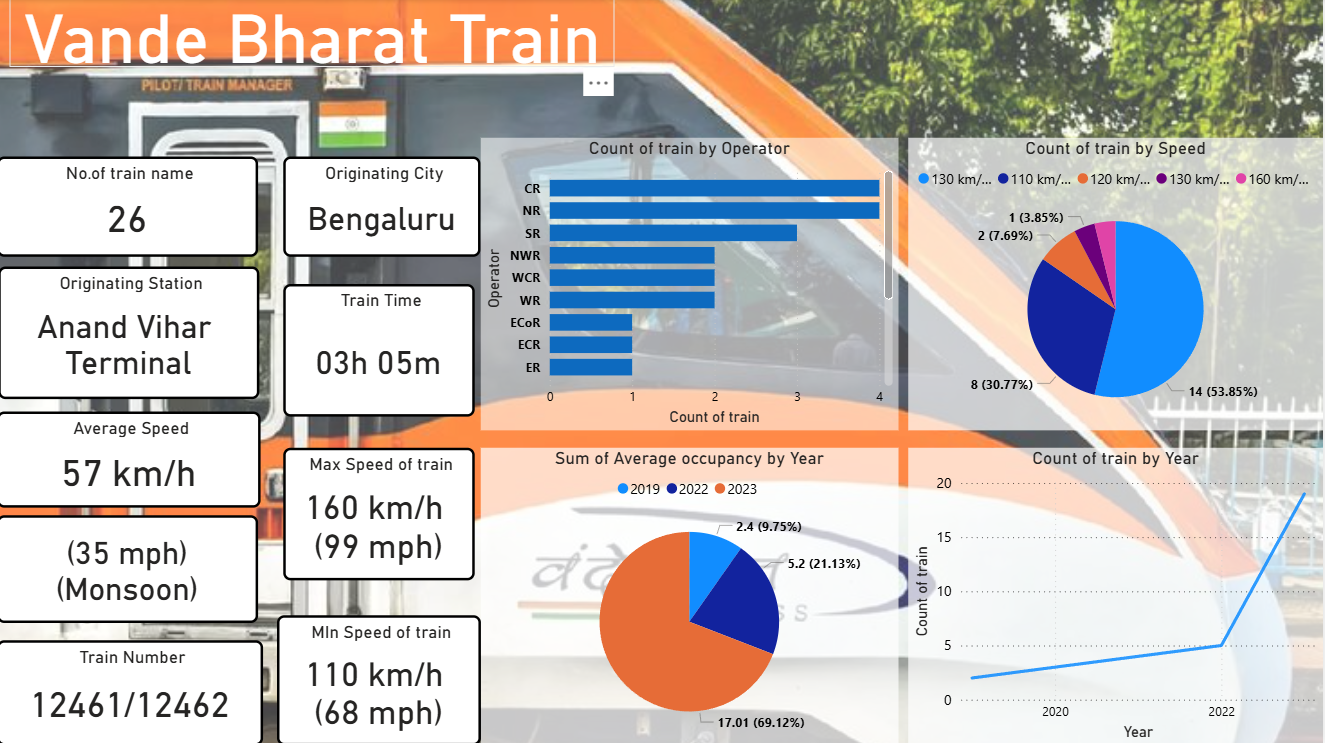

Layout of this report page (visuals, bound fields, positions):
{"tool":"powerbi","page":{"name":"Page 1","canvas":[1280,720],"ordinal":0},"visuals":[{"type":"card","title":"No.of train name","fields":{"Values":["Copy of Vande Bharat Jan- 2024 - Vande Bharat.Total no.of train name"]},"box":[0,151.6,251.9,96.6],"z":0},{"type":"card","title":"Originating City","fields":{"Values":["Min(Copy of Vande Bharat Jan- 2024 - Vande Bharat.Originating City)"]},"box":[276.4,151.6,190.8,96.6],"z":1000},{"type":"card","title":"Train Number","fields":{"Values":["Min(Copy of Vande Bharat Jan- 2024 - Vande Bharat.Train Number)"]},"box":[0,618.8,256.8,101.5],"z":2000},{"type":"clusteredBarChart","fields":{"Y":["Copy of Vande Bharat Jan- 2024 - Vande Bharat.Count of train"],"Category":["Copy of Vande Bharat Jan- 2024 - Vande Bharat.Operator"]},"box":[466.9,133.9,403,282.3],"z":3000},{"type":"pieChart","fields":{"Y":["Copy of Vande Bharat Jan- 2024 - Vande Bharat.Count of train"],"Category":["Copy of Vande Bharat Jan- 2024 - Vande Bharat.Speed"]},"box":[879.5,133.9,400.5,282.3],"z":4000},{"type":"pieChart","fields":{"Y":["Sum(Copy of Vande Bharat Jan- 2024 - Vande Bharat.Average occupancy)"],"Category":["Copy of Vande Bharat Jan- 2024 - Vande Bharat.Inauguration.Variation.Date Hierarchy.Year"]},"box":[466.9,433.1,403,287.1],"z":5000},{"type":"lineChart","fields":{"Y":["Copy of Vande Bharat Jan- 2024 - Vande Bharat.Count of train"],"Category":["Copy of Vande Bharat Jan- 2024 - Vande Bharat.Inauguration.Variation.Date Hierarchy.Year"]},"box":[879.5,433.1,400.5,287.1],"z":7000},{"type":"card","title":"Train Time","fields":{"Values":["Min(Copy of Vande Bharat Jan- 2024 - Vande Bharat.Travel Time)"]},"box":[276.4,275.1,184.6,128.4],"z":8000},{"type":"card","title":"MIn Speed of train","fields":{"Values":["Copy of Vande Bharat Jan- 2024 - Vande Bharat.Min speed of train"]},"box":[270.2,594.3,196.9,126],"z":9000},{"type":"card","title":"Max Speed of train","fields":{"Values":["Copy of Vande Bharat Jan- 2024 - Vande Bharat.Max speed of train"]},"box":[276.4,432.9,184.6,128.4],"z":10000},{"type":"card","title":"Originating Station","fields":{"Values":["Min(Copy of Vande Bharat Jan- 2024 - Vande Bharat.Originating Station)"]},"box":[1.2,258.2,252.1,127.9],"z":11000},{"type":"shape","title":"Vande Bharat Train","box":[12.1,0,583.9,65.1],"z":12000},{"type":"card","fields":{"Values":["Min(Copy of Vande Bharat Jan- 2024 - Vande Bharat.Average Speed.2)"]},"box":[0,497.7,251.9,103.9],"z":13000},{"type":"card","title":"Average Speed","fields":{"Values":["Min(Copy of Vande Bharat Jan- 2024 - Vande Bharat.Average Speed.1)"]},"box":[0,398.6,254.3,92.9],"z":14000}]}

Visuals, with their boxes in screenshot pixels (x1, y1, x2, y2), scaled from the page's 1280x720 canvas onto the 1325x743 screenshot:
"No.of train name" card: rect(0, 156, 261, 256)
"Originating City" card: rect(286, 156, 484, 256)
"Train Number" card: rect(0, 639, 266, 742)
clusteredBarChart - Copy of Vande Bharat Jan- 2024 - Vande Bharat.Count of train x Copy of Vande Bharat Jan- 2024 - Vande Bharat.Operator: rect(483, 138, 900, 429)
pieChart - Copy of Vande Bharat Jan- 2024 - Vande Bharat.Count of train x Copy of Vande Bharat Jan- 2024 - Vande Bharat.Speed: rect(910, 138, 1324, 429)
pieChart - Sum(Copy of Vande Bharat Jan- 2024 - Vande Bharat.Average occupancy) x Copy of Vande Bharat Jan- 2024 - Vande Bharat.Inauguration.Variation.Date Hierarchy.Year: rect(483, 447, 900, 742)
lineChart - Copy of Vande Bharat Jan- 2024 - Vande Bharat.Count of train x Copy of Vande Bharat Jan- 2024 - Vande Bharat.Inauguration.Variation.Date Hierarchy.Year: rect(910, 447, 1324, 742)
"Train Time" card: rect(286, 284, 477, 416)
"MIn Speed of train" card: rect(280, 613, 484, 742)
"Max Speed of train" card: rect(286, 447, 477, 579)
"Originating Station" card: rect(1, 266, 262, 398)
"Vande Bharat Train" shape: rect(13, 0, 617, 67)
card - Min(Copy of Vande Bharat Jan- 2024 - Vande Bharat.Average Speed.2): rect(0, 514, 261, 621)
"Average Speed" card: rect(0, 411, 263, 507)
